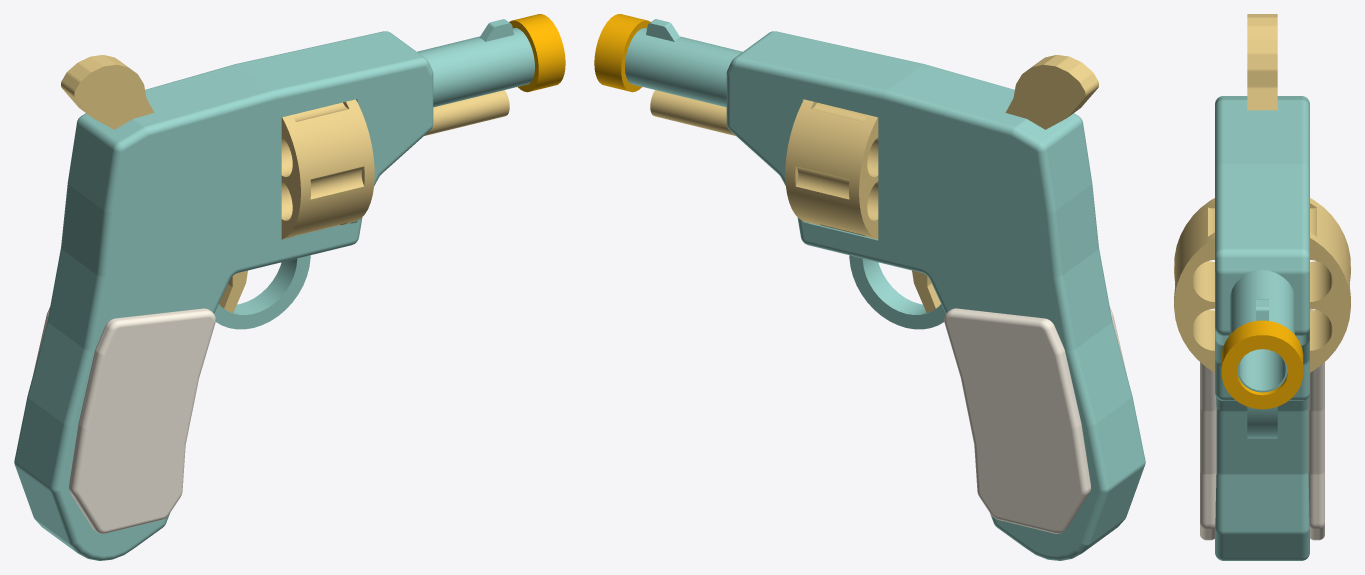
3 renders of one model, left to right at view 1: azimuth 30°, elevation 25°; view 2: azimuth 150°, elevation 25°; view 3: azimuth 270°, elevation 25°, orthographic. The views are drawn at different scales.
Visible parts, largest first — view 1: =>[0:1:1:2], =>[0:1:1:13], =>[0:1:1:4], canna, =>[0:1:1:15], =>[0:1:1:19], =>[0:1:1:21], =>[0:1:1:7], =>[0:1:1:17]; view 2: =>[0:1:1:2], =>[0:1:1:10], =>[0:1:1:4], canna, =>[0:1:1:15], =>[0:1:1:19], =>[0:1:1:21], =>[0:1:1:7], =>[0:1:1:17]; view 3: =>[0:1:1:2], =>[0:1:1:4], canna, =>[0:1:1:21], =>[0:1:1:15], =>[0:1:1:10], =>[0:1:1:13], =>[0:1:1:19].
Part boxes in pixels (x1=…): =>[0:1:1:2]: x1=14, y1=31, x2=433, y2=560; =>[0:1:1:13]: x1=69, y1=308, x2=215, y2=533; =>[0:1:1:4]: x1=281, y1=99, x2=374, y2=239; canna: x1=417, y1=19, x2=534, y2=107; =>[0:1:1:15]: x1=61, y1=55, x2=154, y2=129; =>[0:1:1:19]: x1=214, y1=255, x2=310, y2=329; =>[0:1:1:21]: x1=509, y1=14, x2=565, y2=92; =>[0:1:1:7]: x1=424, y1=90, x2=509, y2=135; =>[0:1:1:17]: x1=219, y1=270, x2=247, y2=312; =>[0:1:1:2]: x1=726, y1=31, x2=1145, y2=560; =>[0:1:1:10]: x1=944, y1=308, x2=1090, y2=533; =>[0:1:1:4]: x1=785, y1=99, x2=878, y2=239; canna: x1=625, y1=19, x2=742, y2=107; =>[0:1:1:15]: x1=1005, y1=55, x2=1098, y2=129; =>[0:1:1:19]: x1=849, y1=255, x2=945, y2=329; =>[0:1:1:21]: x1=594, y1=14, x2=650, y2=92; =>[0:1:1:7]: x1=650, y1=90, x2=735, y2=135; =>[0:1:1:17]: x1=912, y1=270, x2=940, y2=312; =>[0:1:1:2]: x1=1215, y1=96, x2=1309, y2=560; =>[0:1:1:4]: x1=1174, y1=198, x2=1350, y2=372; canna: x1=1230, y1=270, x2=1294, y2=392; =>[0:1:1:21]: x1=1221, y1=320, x2=1303, y2=409; =>[0:1:1:15]: x1=1247, y1=14, x2=1277, y2=110; =>[0:1:1:10]: x1=1308, y1=308, x2=1324, y2=540; =>[0:1:1:13]: x1=1200, y1=308, x2=1216, y2=540; =>[0:1:1:19]: x1=1247, y1=406, x2=1277, y2=438.
Size of the model in its own units: 154 by 138 by 40.93.
